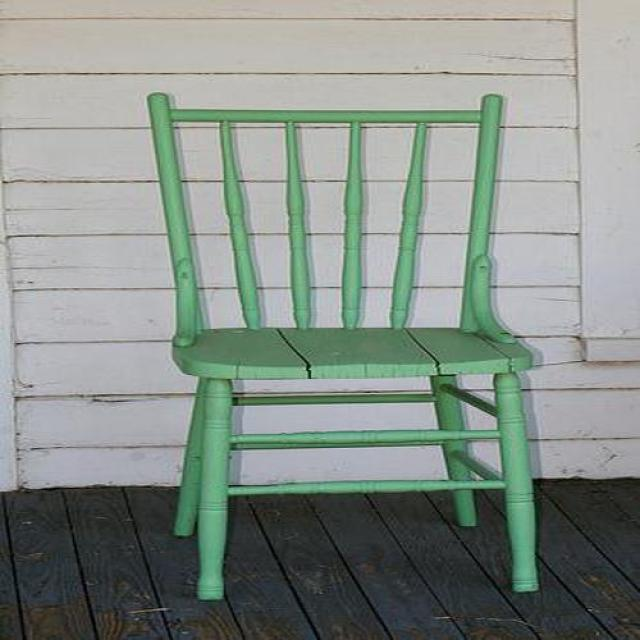chair: (146, 92, 544, 603)
